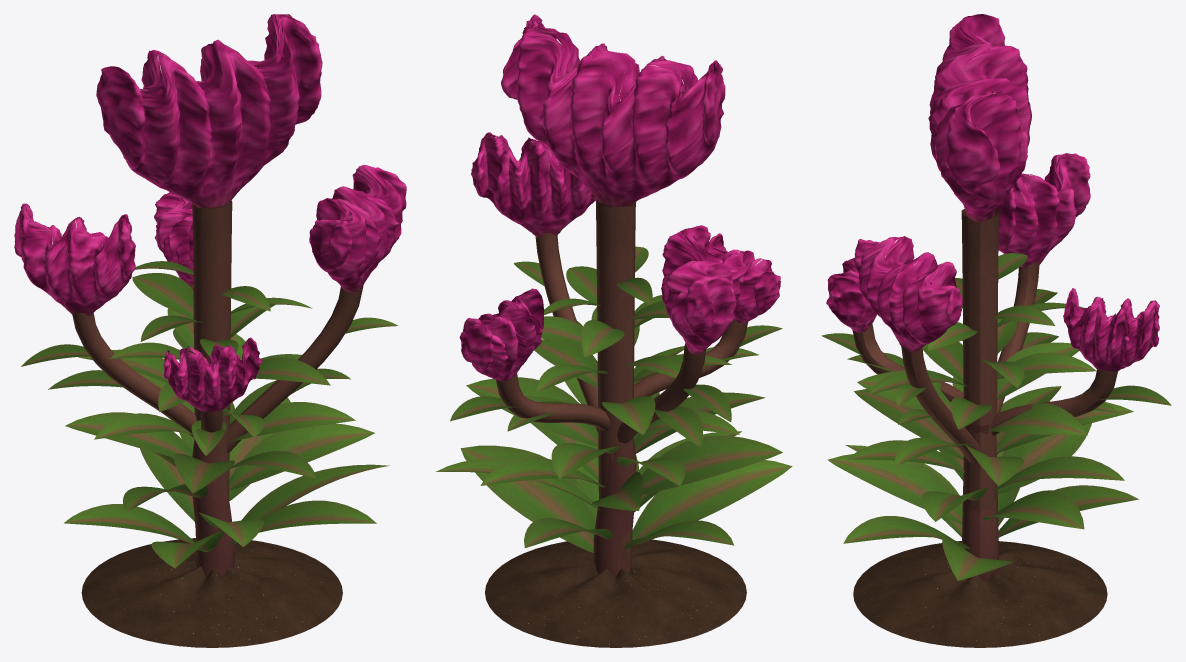
Rendered from w3_flora_cresta.glb.
3 renders of one model, left to right at view 1: azimuth 30°, elevation 25°; view 2: azimuth 150°, elevation 25°; view 3: azimuth 270°, elevation 25°, orthographic. The views are drawn at different scales.
Parts seen in each view (by area): view 1: w3_flora_cresta; view 2: w3_flora_cresta; view 3: w3_flora_cresta.
Part boxes in pixels (x1,y1,x2,y2): w3_flora_cresta: (14,14,406,647); w3_flora_cresta: (436,14,792,647); w3_flora_cresta: (821,14,1171,647).
Size of the model in its own units: 0.3694 by 0.6115 by 0.3587.
3 materials, 3 textured.
